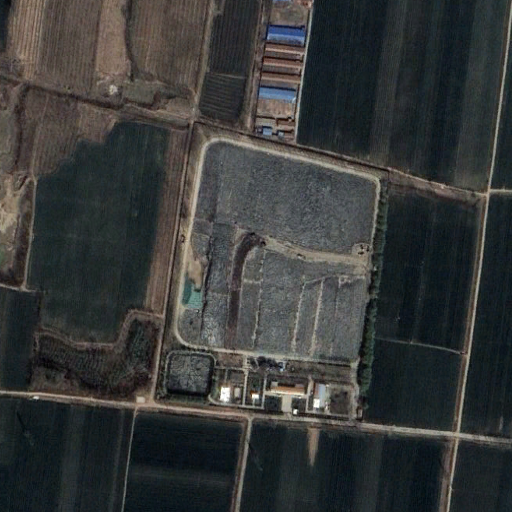lf: (178, 139, 374, 367)
